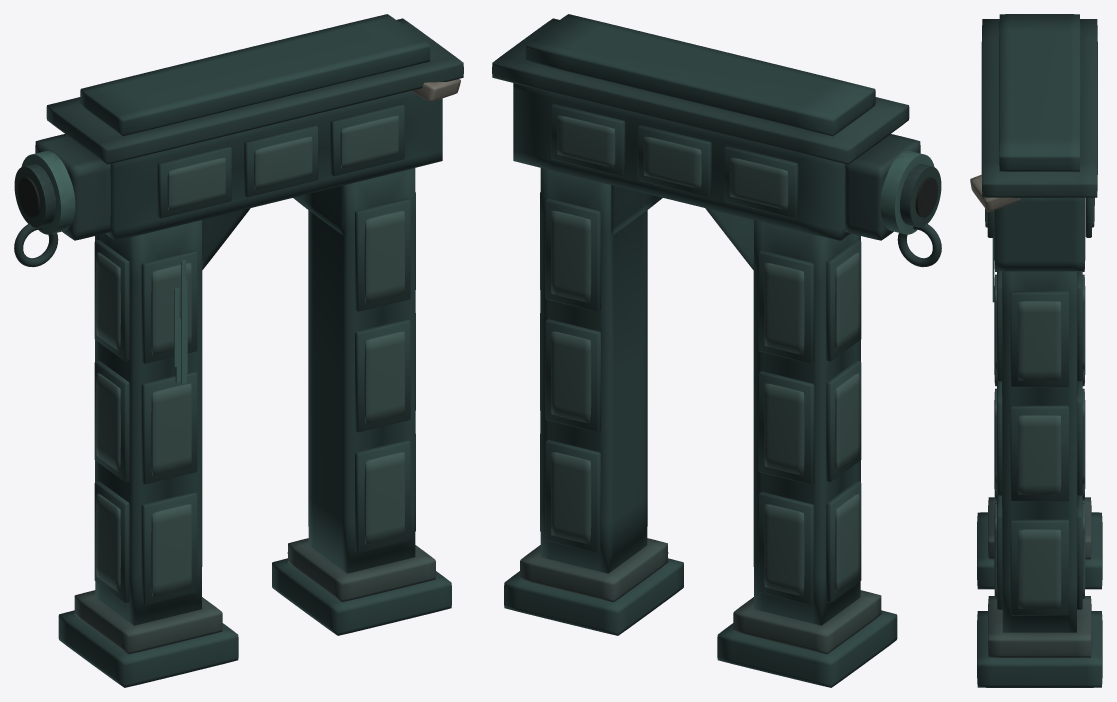
The model's file is intake_gantry_b.glb.
3 views of the same model, side by side, from view 1: azimuth 30°, elevation 25°; view 2: azimuth 150°, elevation 25°; view 3: azimuth 270°, elevation 25° (orthographic). The views are drawn at different scales.
Parts seen in each view (by area): view 1: Surface; view 2: Surface; view 3: Surface.
Boxes of the visible parts, bbox=[...] form: Surface: bbox=[14, 14, 463, 687]; Surface: bbox=[492, 14, 941, 687]; Surface: bbox=[970, 14, 1102, 687].
Size of the model in its own units: 14.55 by 18.52 by 4.21.
